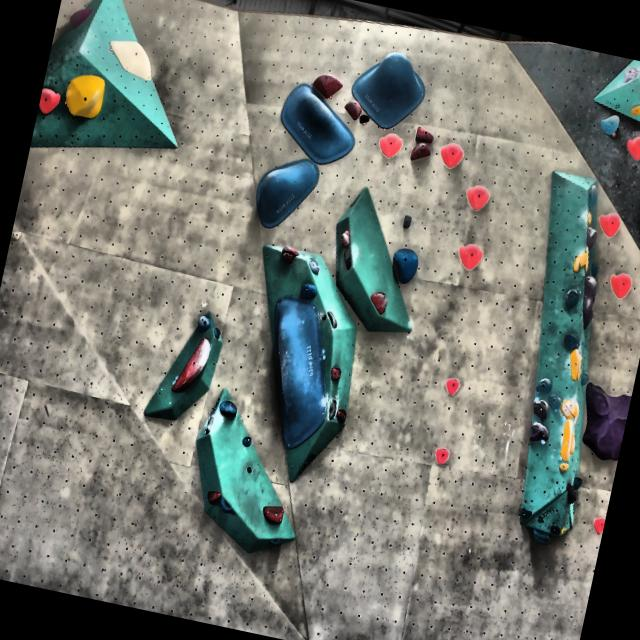Hold: (250, 298, 345, 452), (344, 45, 438, 132), (275, 82, 364, 166), (251, 154, 323, 238), (570, 374, 634, 461), (170, 335, 215, 400), (100, 38, 158, 86), (62, 70, 106, 120), (573, 270, 603, 330), (552, 416, 578, 477), (388, 245, 424, 287), (406, 124, 436, 168), (458, 180, 492, 218), (36, 78, 66, 120), (363, 286, 395, 320), (65, 4, 96, 39), (456, 238, 485, 273), (303, 70, 340, 97), (596, 208, 622, 245), (567, 244, 594, 278), (594, 107, 622, 139), (605, 268, 633, 300), (528, 528, 560, 556), (562, 348, 588, 382), (374, 130, 401, 160), (439, 138, 464, 170), (524, 422, 554, 448), (527, 398, 552, 427), (262, 498, 287, 526), (558, 330, 584, 354), (561, 287, 583, 314), (582, 181, 598, 216), (561, 396, 580, 424), (440, 371, 461, 396), (192, 311, 212, 337), (534, 374, 556, 397), (588, 514, 606, 542), (620, 64, 640, 89), (542, 392, 567, 412), (278, 246, 302, 266), (324, 394, 339, 425), (622, 136, 640, 161), (302, 278, 322, 300), (342, 96, 360, 120), (340, 250, 358, 274), (321, 310, 341, 331), (328, 362, 345, 386), (433, 442, 450, 465), (215, 399, 238, 416), (582, 226, 598, 250), (308, 258, 324, 276), (586, 262, 604, 278), (266, 534, 282, 551), (206, 490, 222, 506), (627, 100, 640, 119), (340, 228, 352, 246), (335, 407, 348, 423), (218, 502, 233, 514), (240, 432, 252, 446)
